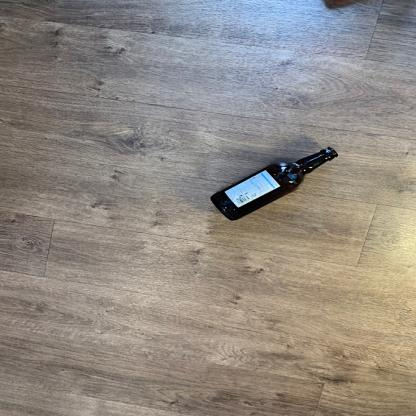trash: (209, 145, 340, 224)
